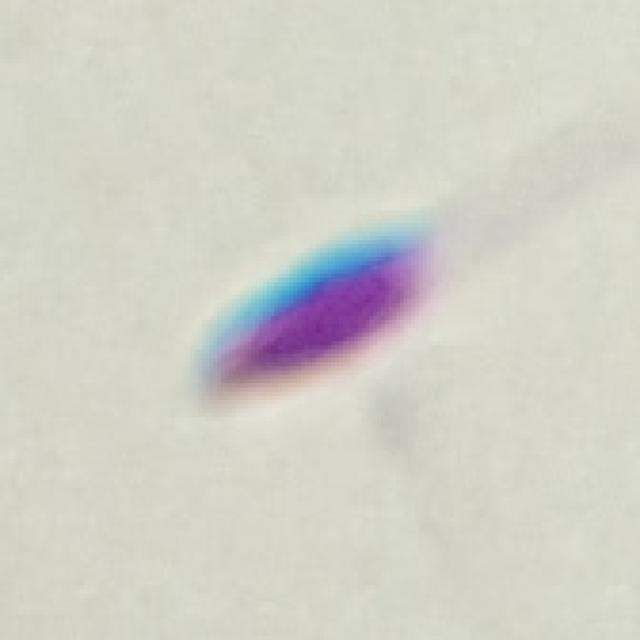abnormal sperm: (179, 158, 556, 432)
